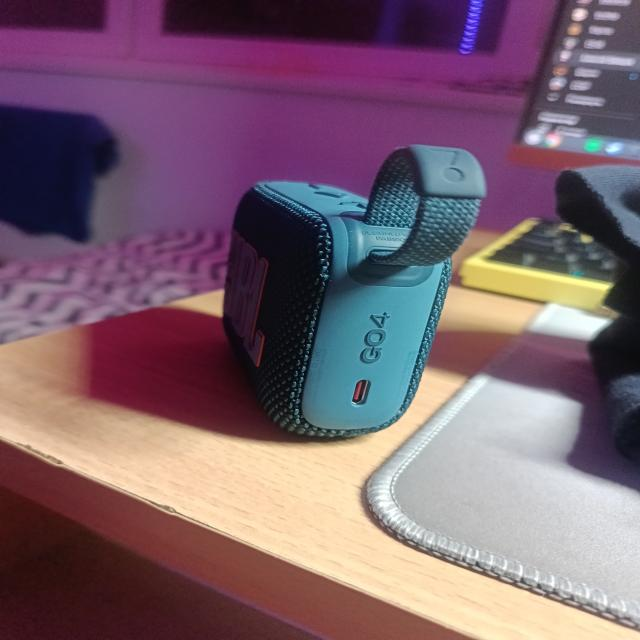column JBL: (223, 145, 486, 437)
